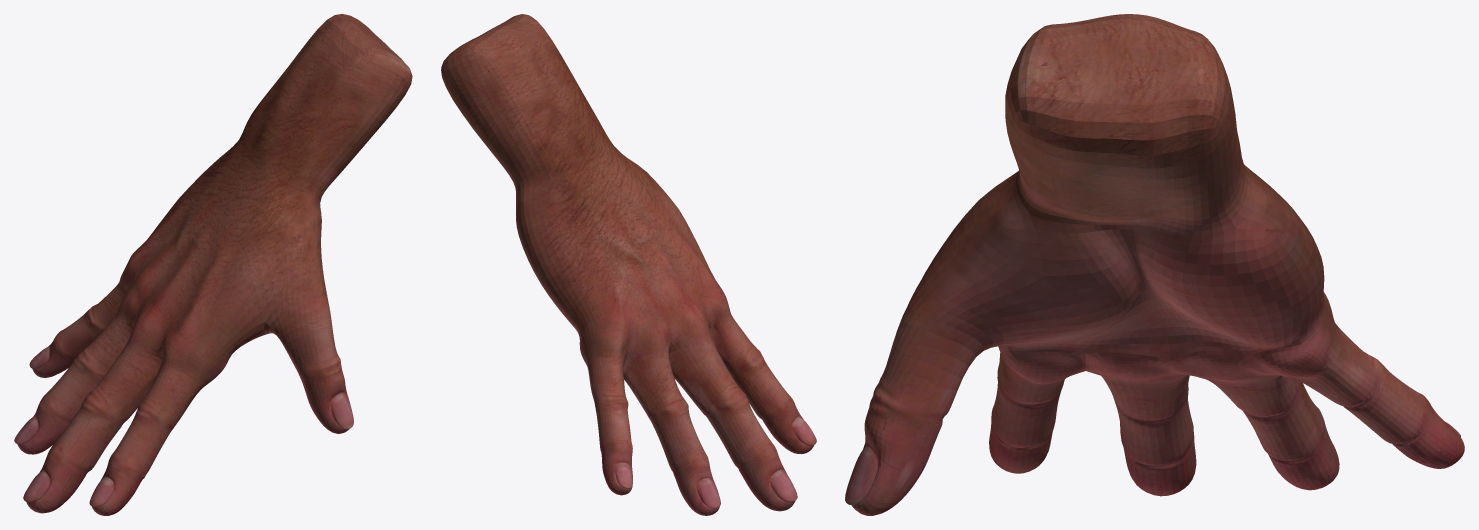
The model's file is Hand.fbx.
3 renders of one model, left to right at view 1: azimuth 30°, elevation 25°; view 2: azimuth 150°, elevation 25°; view 3: azimuth 270°, elevation 25°, orthographic. The views are drawn at different scales.
Parts seen in each view (by area): view 1: ZBrushPolyMesh3D; view 2: ZBrushPolyMesh3D; view 3: ZBrushPolyMesh3D.
Boxes of the visible parts, x1,y1,x2,y2 form: ZBrushPolyMesh3D: [14, 14, 412, 515]; ZBrushPolyMesh3D: [441, 14, 816, 515]; ZBrushPolyMesh3D: [845, 14, 1464, 515].
Size of the model in its own units: 150 by 168 by 131.
